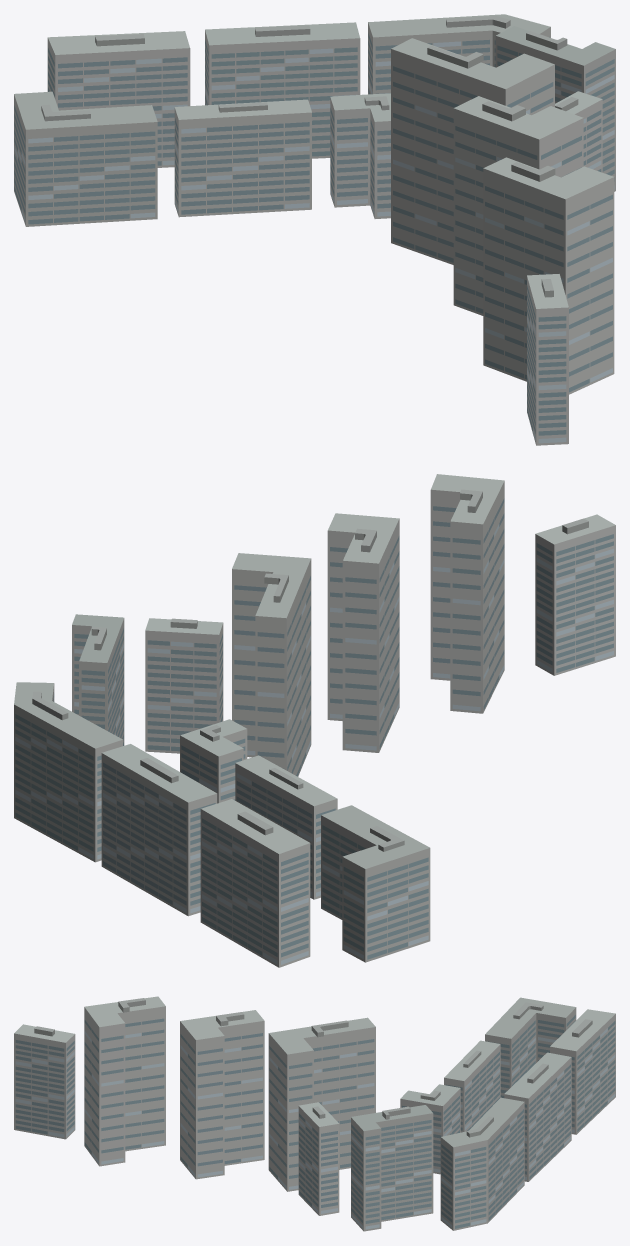
Rendered from apt-a10025855.glb.
3 renders of one model, top to bottom at view 1: azimuth 30°, elevation 25°; view 2: azimuth 150°, elevation 25°; view 3: azimuth 270°, elevation 25°, orthographic. The views are drawn at different scales.
Parts seen in each view (by area): view 1: apt-a10025855; view 2: apt-a10025855; view 3: apt-a10025855.
Boxes of the visible parts, box(x1,y1,x2,y2) form: apt-a10025855: box(14, 14, 615, 445); apt-a10025855: box(14, 474, 615, 967); apt-a10025855: box(14, 996, 615, 1231).
Bounding box in the file's own units: 182 × 74 × 281.
